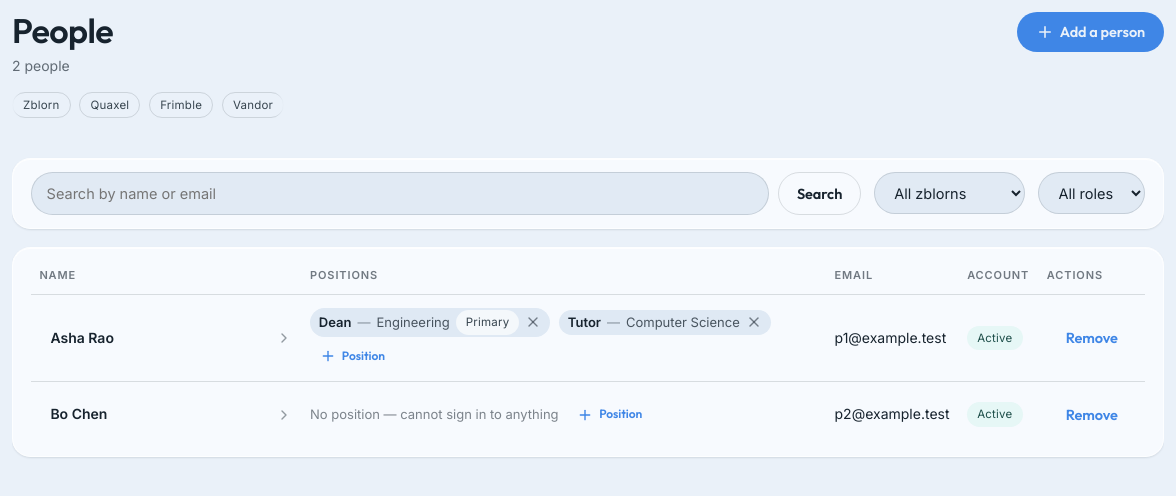
Scenario: filters › puts the search in the URL so a filtered list is linkable
Type "asha" into the field named "Search people" at (400, 194), box [31,172,769,215]
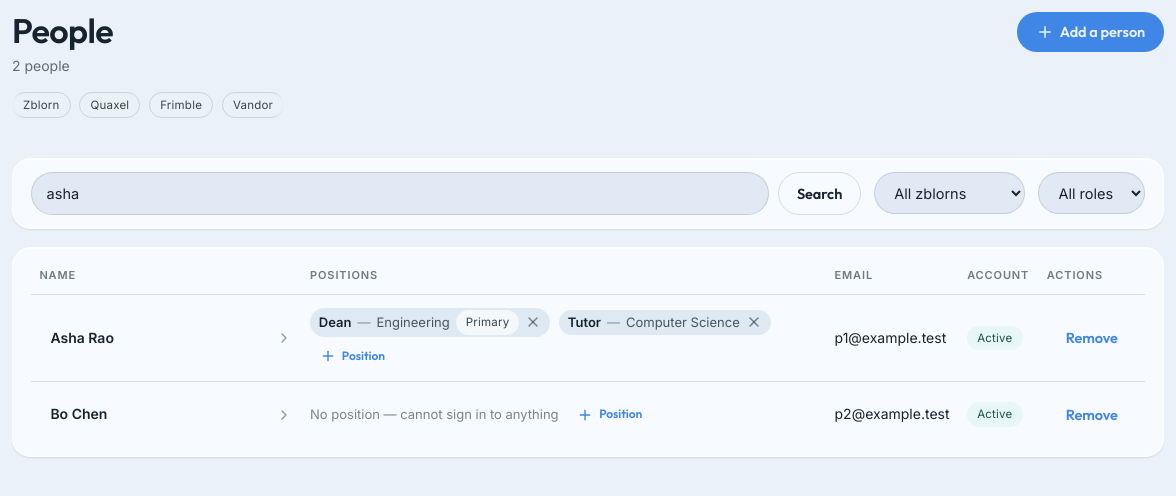
Click the button "Search" at (820, 194), box [778,172,861,215]
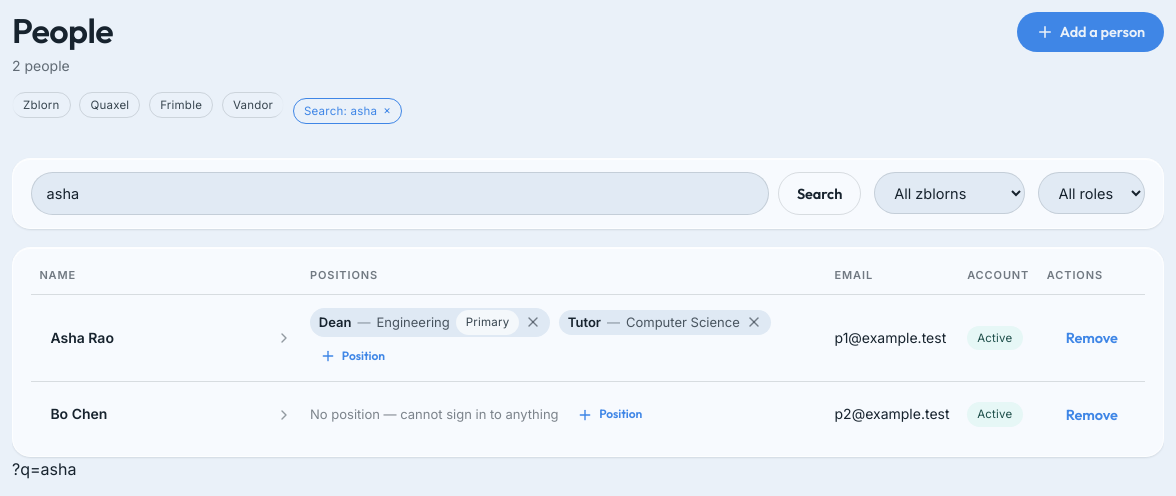
Expected: the text with test id "where" shows "q=asha", [12,459,76,479]
